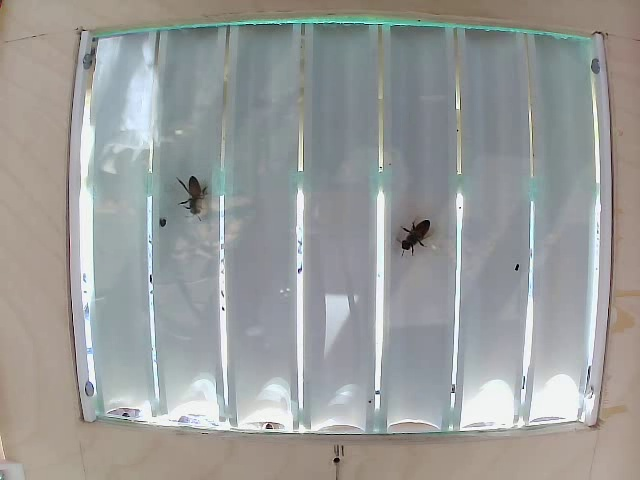bee: (176, 164, 227, 221), (396, 199, 430, 261)
